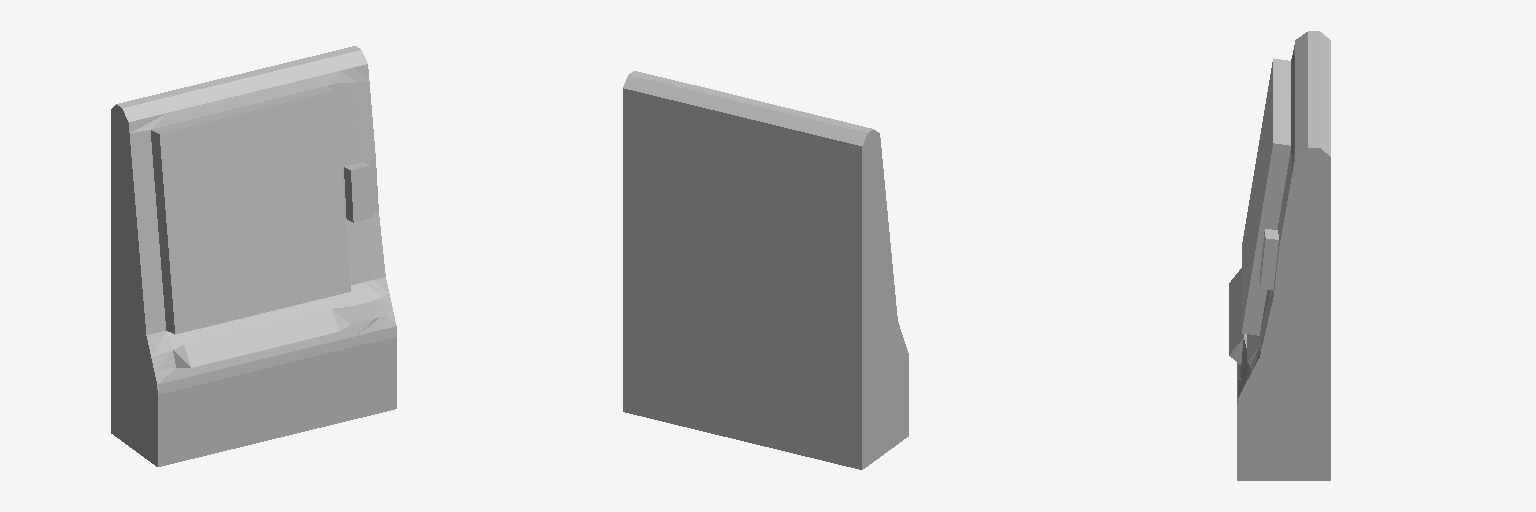
The model's file is vending_machine2.obj.
3 renders of one model, left to right at view 1: azimuth 30°, elevation 25°; view 2: azimuth 150°, elevation 25°; view 3: azimuth 270°, elevation 25°, orthographic.
Bounding box in the file's own units: 179 × 237 × 65.73.